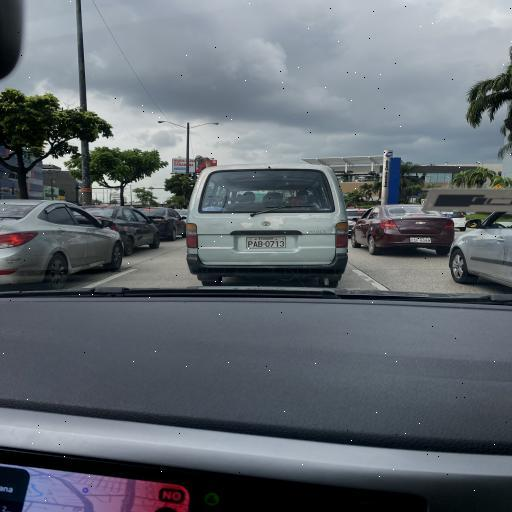license_plate: (247, 240, 252, 248), (258, 240, 263, 248), (265, 240, 270, 248), (270, 240, 275, 248), (253, 241, 258, 248), (280, 240, 284, 247), (276, 240, 278, 247)
